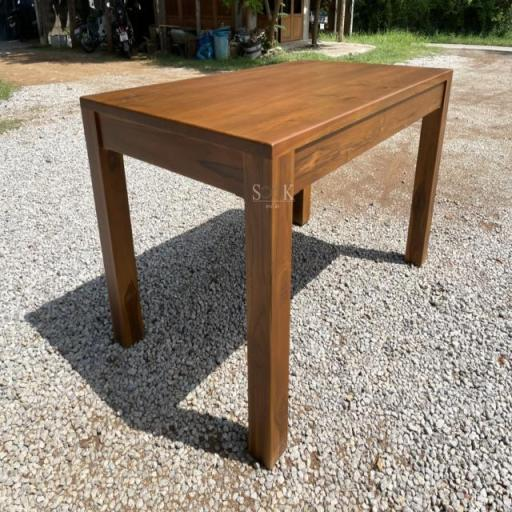table: (77, 58, 460, 479)
